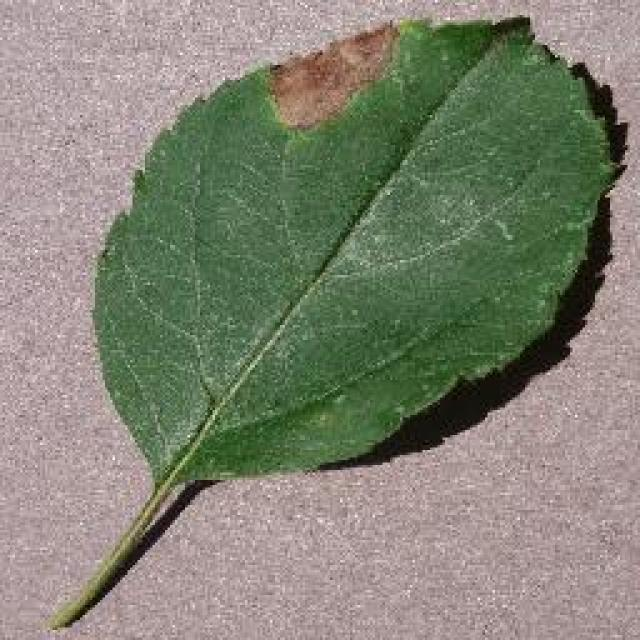Apple___Black_rot: (225, 15, 449, 138)
